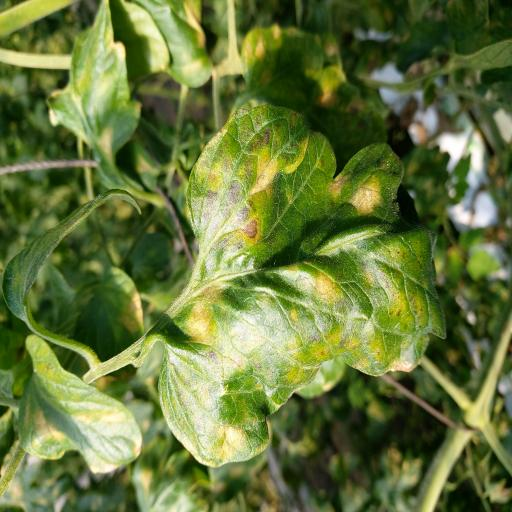disease_tomato: (158, 105, 448, 467), (18, 332, 142, 476), (43, 0, 143, 157)
